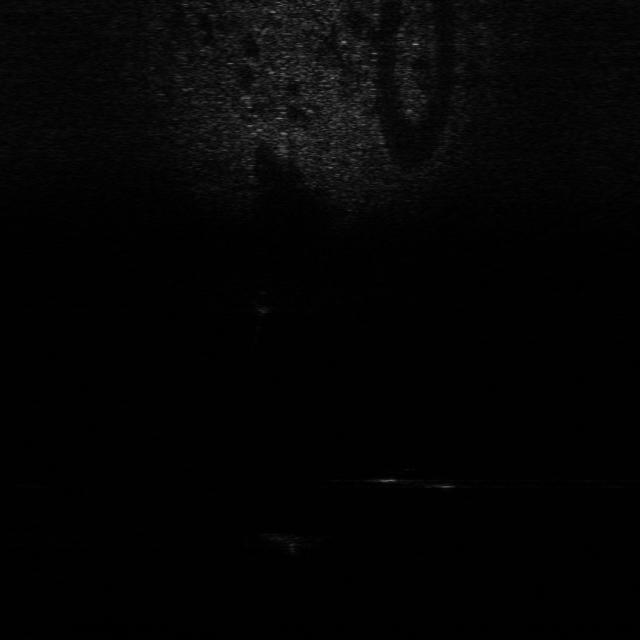ball: (244, 288, 280, 313)
metal bucket: (258, 526, 324, 556)
tyre: (373, 464, 459, 496)
